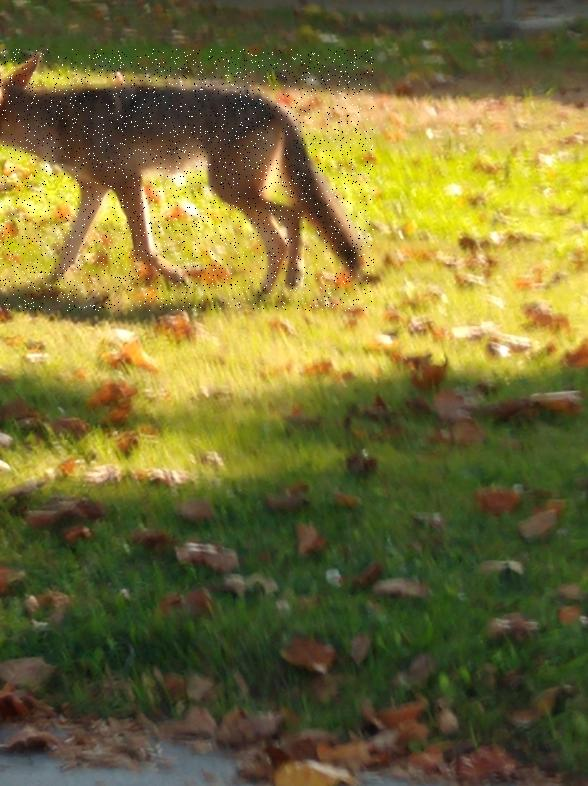Coyote: (0, 49, 374, 311)
